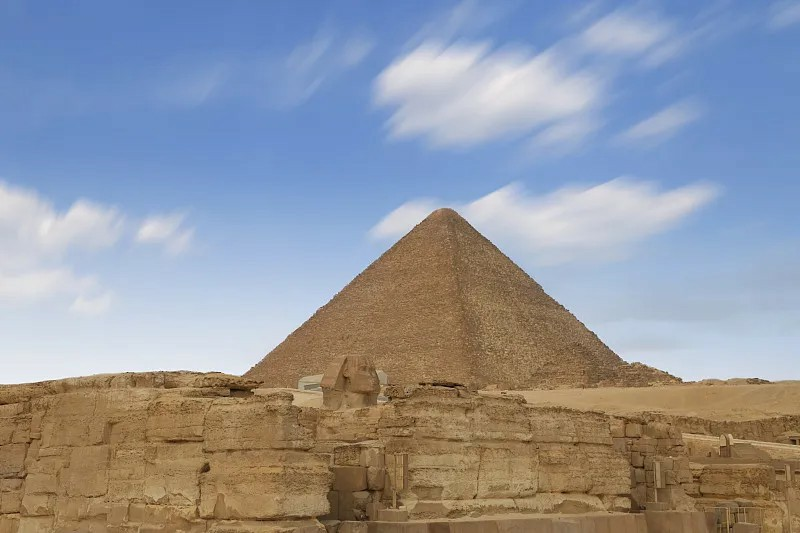Pyramid: (238, 207, 649, 390)
